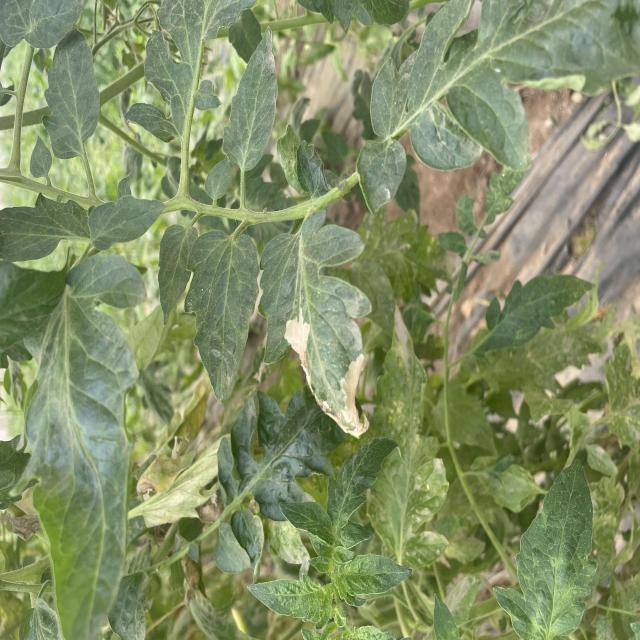Tuta absoluta: (325, 350, 391, 440), (284, 309, 312, 376), (47, 55, 53, 67), (45, 42, 52, 51), (13, 80, 20, 89), (92, 56, 99, 64), (84, 58, 91, 65), (50, 74, 57, 81), (6, 72, 11, 81), (16, 10, 21, 19), (4, 19, 11, 25), (9, 49, 15, 56), (30, 59, 35, 67), (60, 25, 65, 33), (63, 75, 69, 81), (87, 95, 92, 102), (87, 76, 94, 81), (64, 37, 70, 42), (20, 28, 27, 32), (42, 22, 49, 26), (18, 24, 23, 29), (47, 28, 56, 30), (0, 15, 1, 20), (97, 4, 99, 6)
